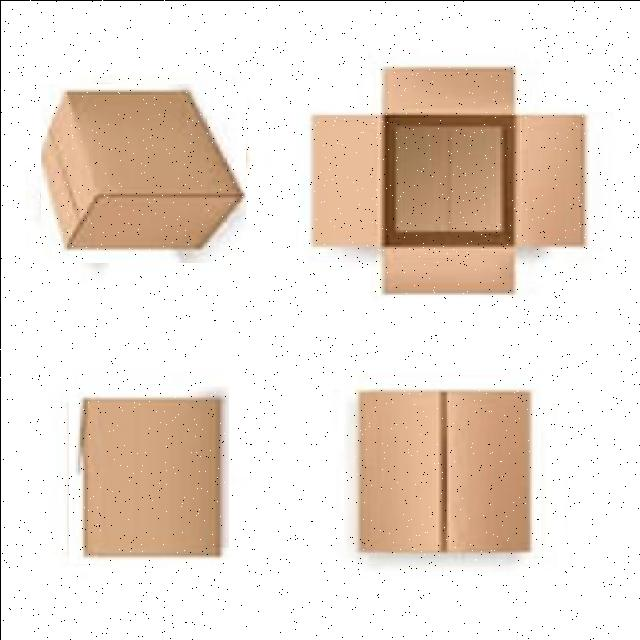defect: (306, 60, 592, 302), (343, 382, 540, 563)
normal: (40, 83, 245, 262), (68, 385, 228, 563)
